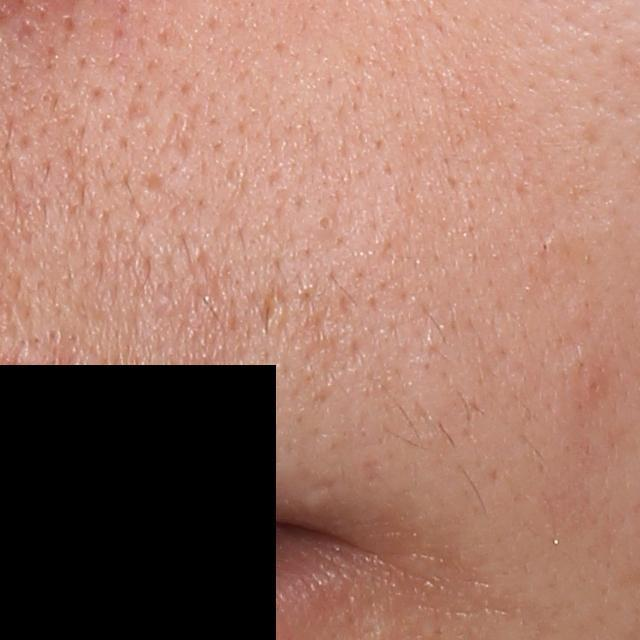comedo: (311, 208, 339, 239)
